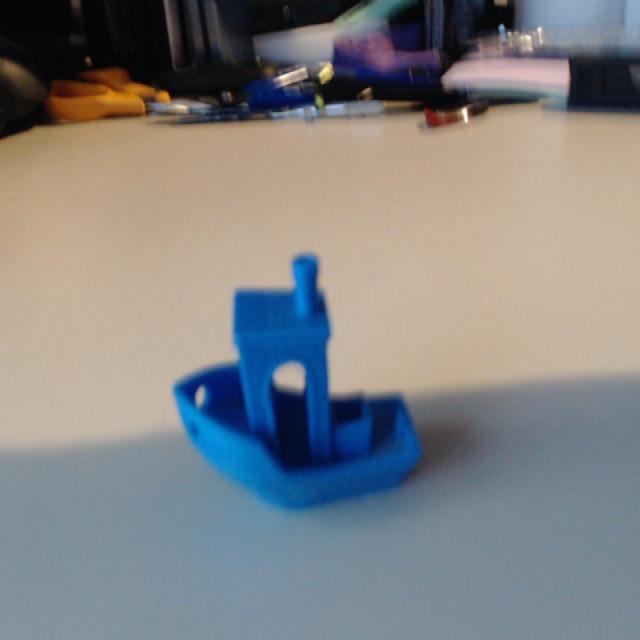benchy: (169, 248, 425, 512)
